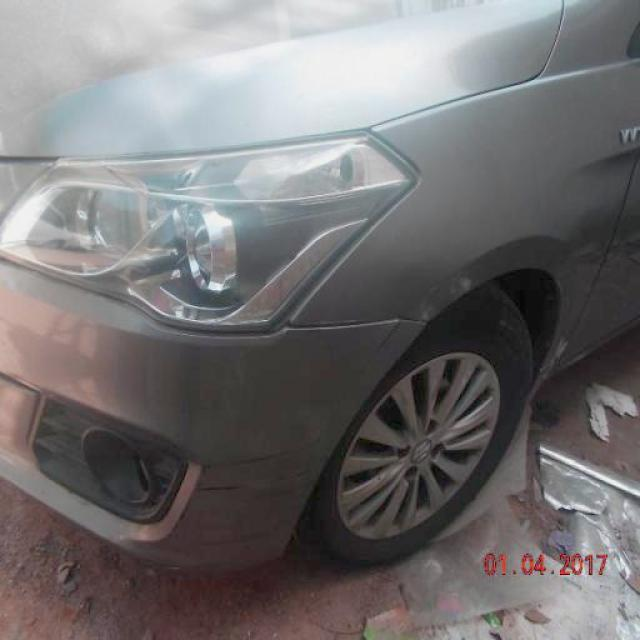car damage: (353, 283, 439, 383), (191, 481, 312, 551), (193, 439, 327, 498), (277, 314, 428, 337), (153, 495, 197, 551)
